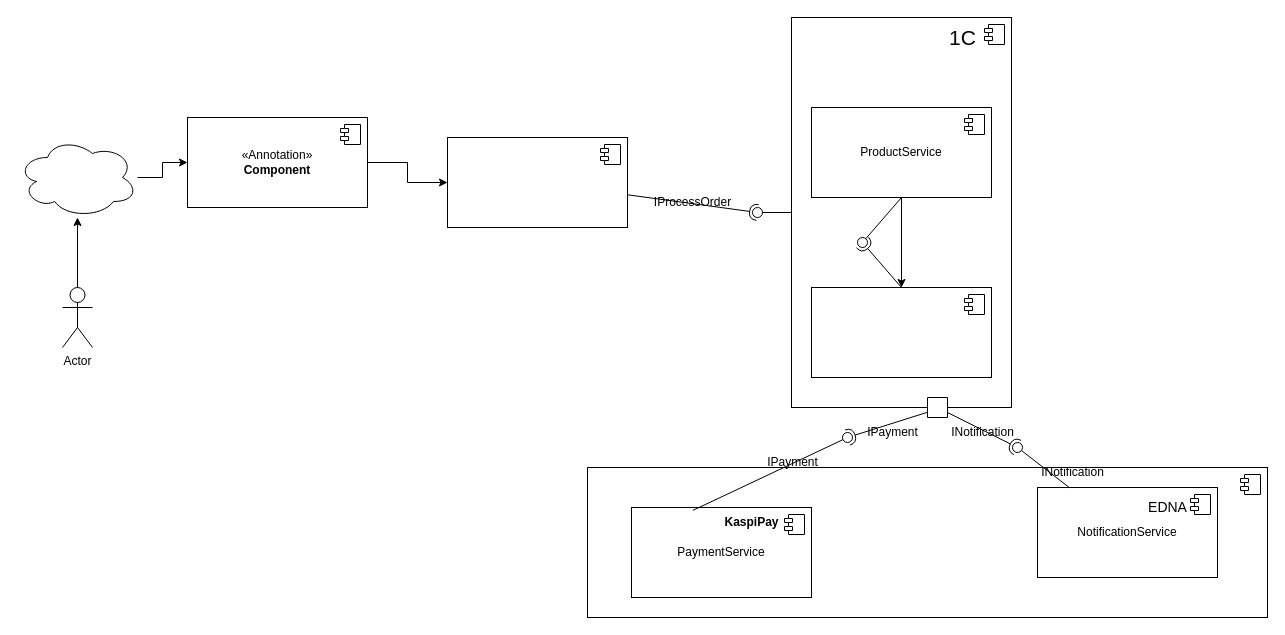
This 1285x635 diagram has some shape labels left out. The centre of each missing label's shape, as x and y in pixels:
OrderService: (901,332)
UserService: (537,182)
